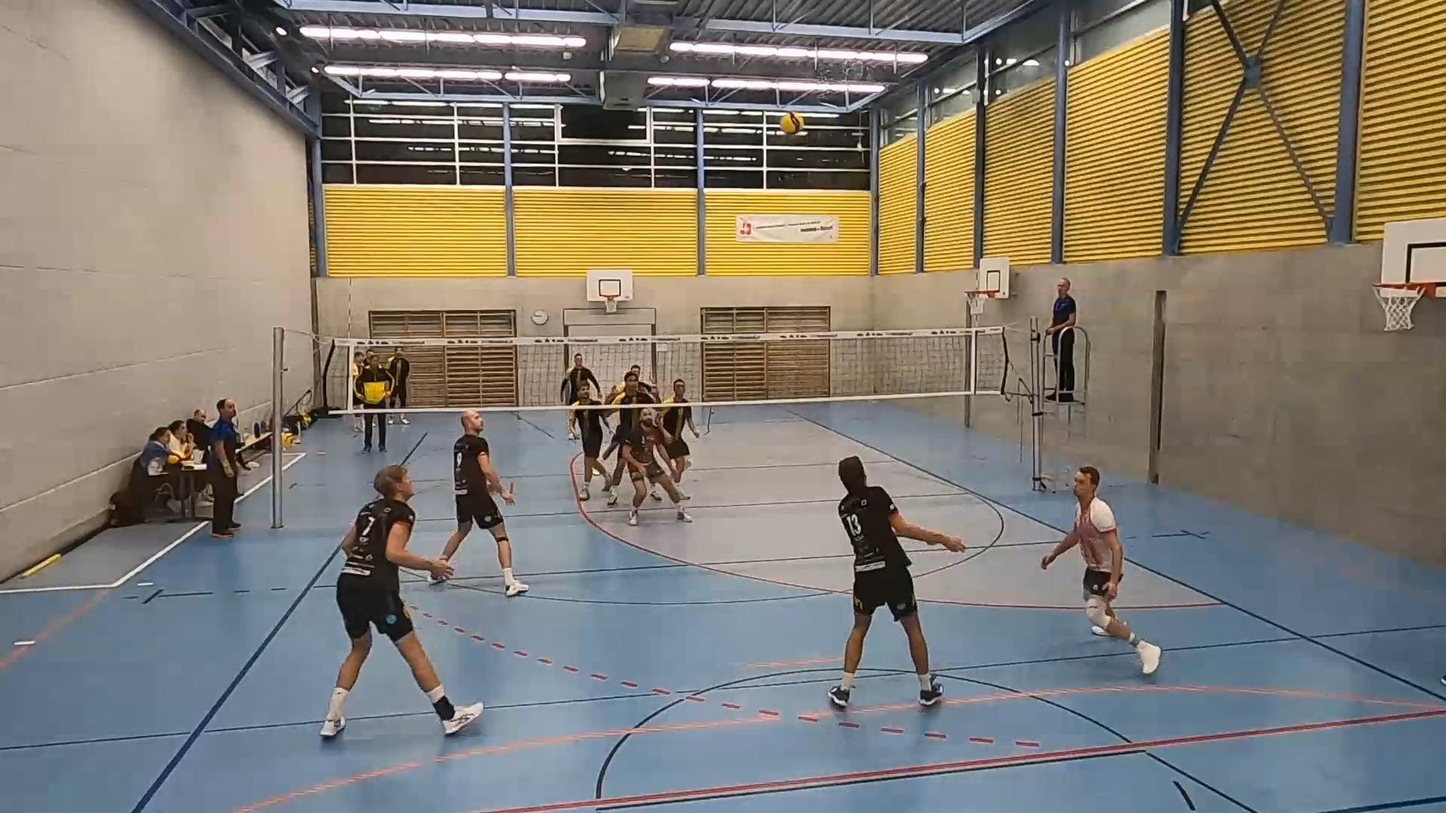Player: (320, 465, 482, 737), (1041, 467, 1160, 674), (441, 410, 528, 596), (659, 378, 700, 498), (569, 381, 609, 499), (604, 370, 655, 458), (560, 353, 600, 403), (609, 365, 655, 402), (612, 491, 615, 499)
Receive: (819, 450, 965, 724)
ball: (782, 115, 807, 132)
